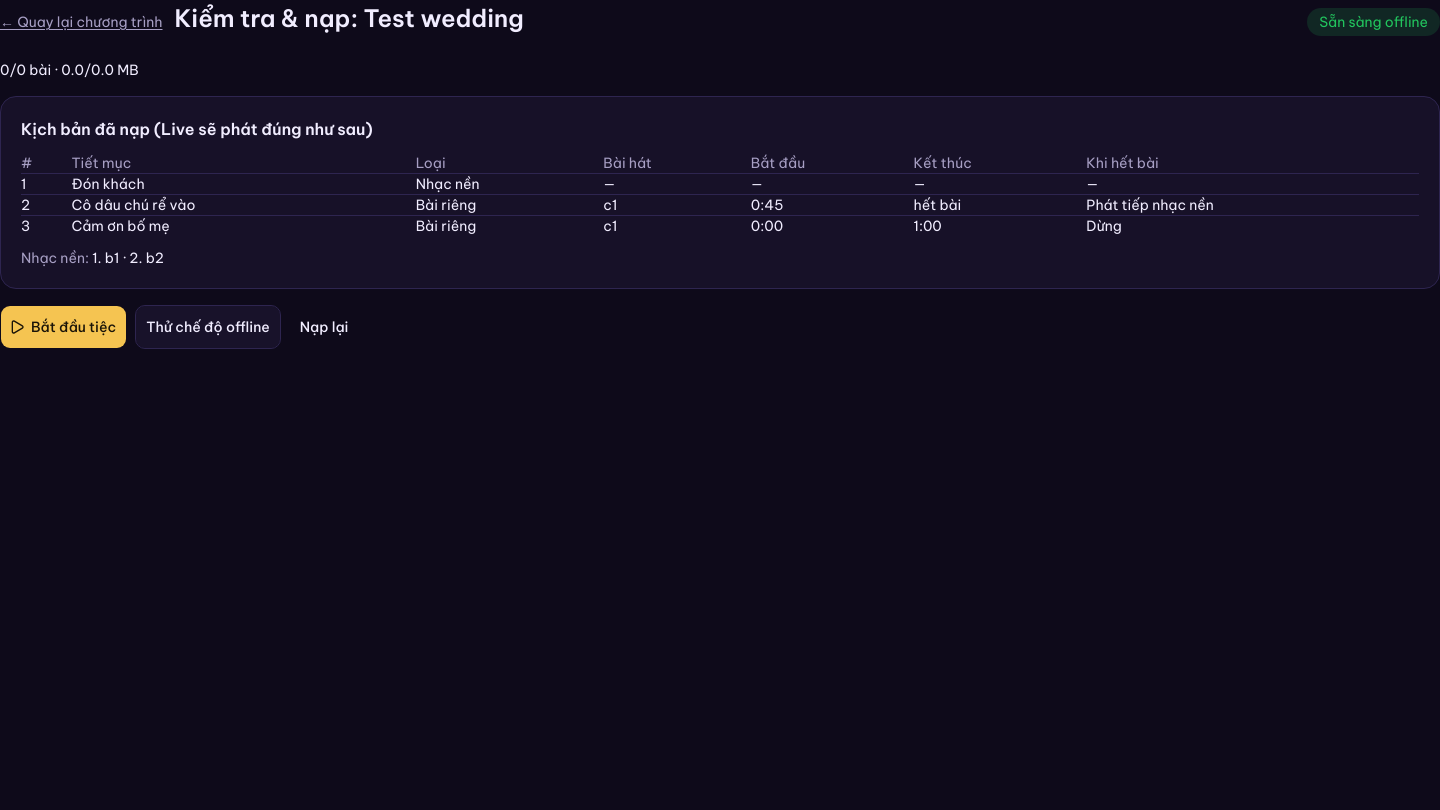
Test: LoadClient › offline test: explicit steps and a button that opens Live
The width and height of the screenshot is (1440, 810).
Click the button "Thử chế độ offline" at [208, 327], box [135,305,281,349]
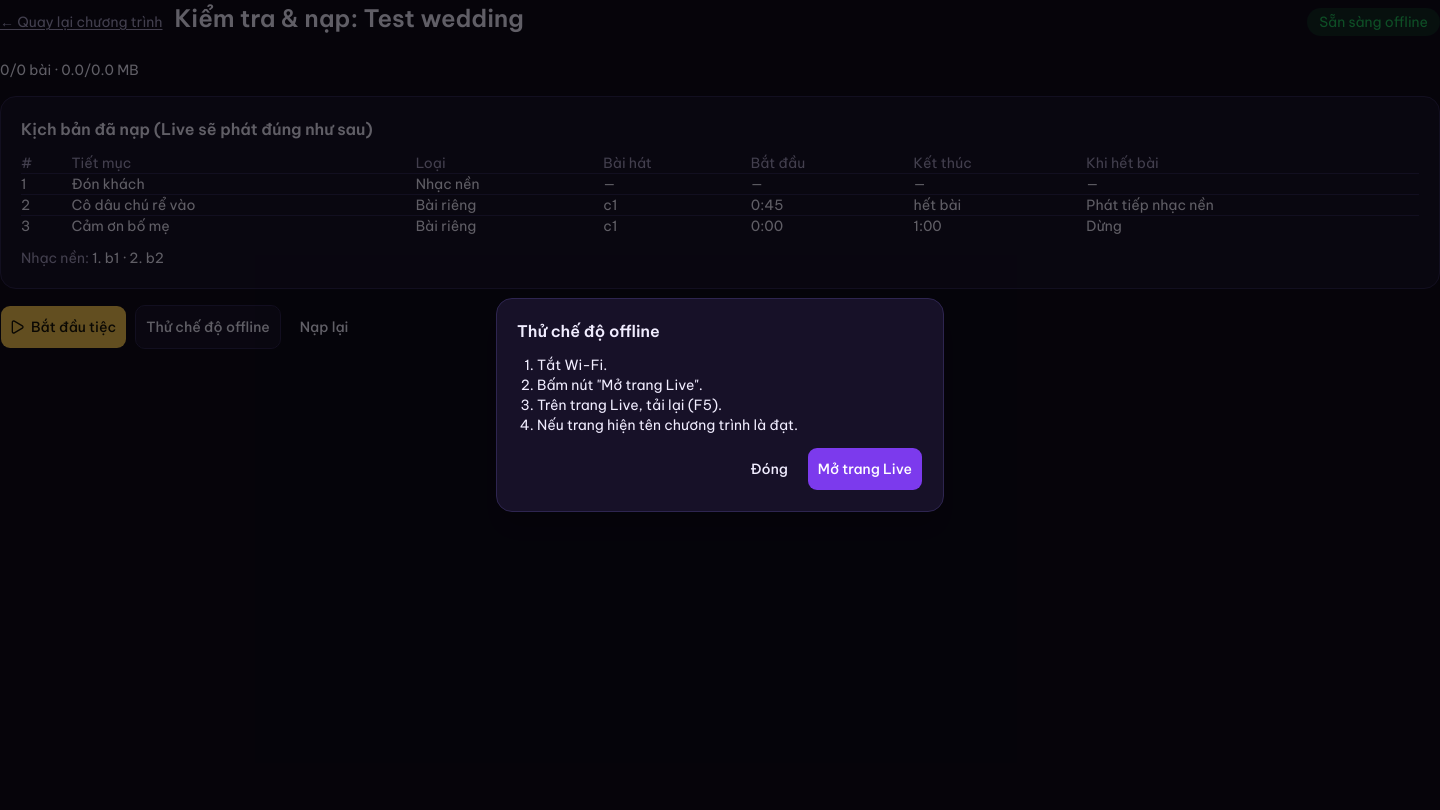
expect the button "Mở trang Live" is enabled: met, box [807,447,923,491]
